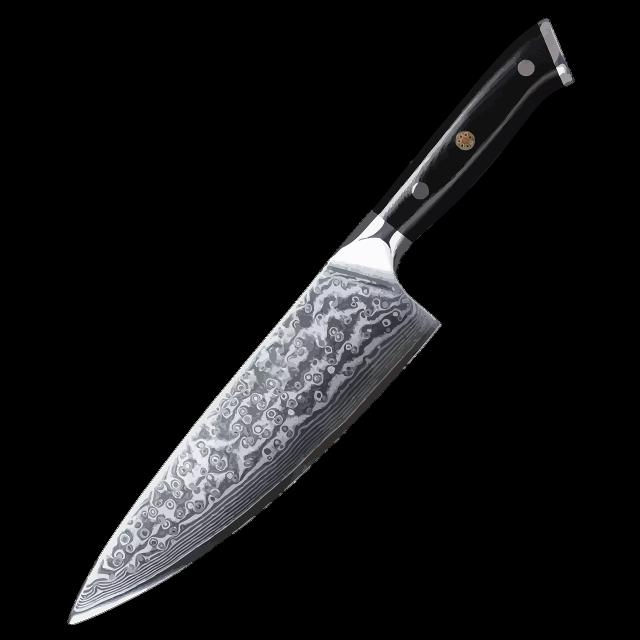Knife: (69, 20, 573, 624)
